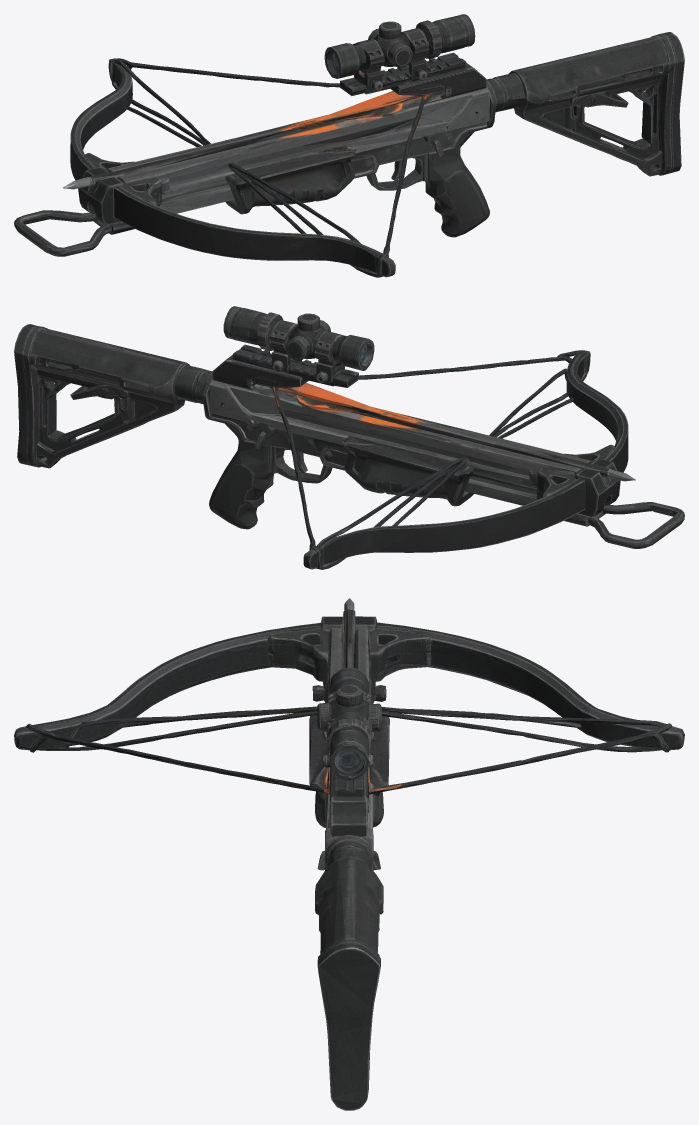
Rendered from bolt.glb.
3 renders of one model, top to bottom at view 1: azimuth 30°, elevation 25°; view 2: azimuth 150°, elevation 25°; view 3: azimuth 270°, elevation 25°, orthographic. The views are drawn at different scales.
Visible parts, largest first — view 1: Mesh_0; view 2: Mesh_0; view 3: Mesh_0.
Part boxes in pixels (left/top/right/bottom): Mesh_0: left=14, top=14, right=684, bottom=277; Mesh_0: left=14, top=306, right=684, bottom=569; Mesh_0: left=14, top=598, right=684, bottom=1110.
Bounding box in the file's own units: 1.9 × 0.6332 × 1.44.
1 material, 1 textured.
